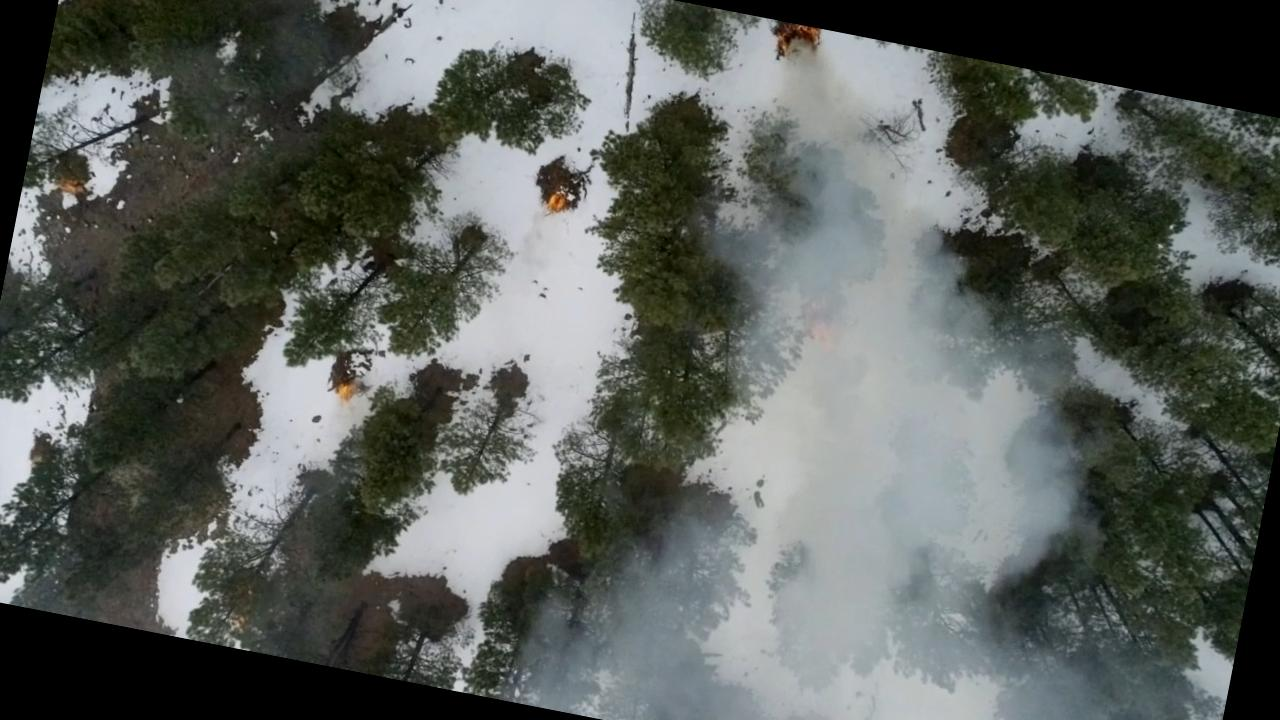fire: (764, 19, 828, 72), (536, 184, 572, 223), (329, 377, 362, 406)
smoke: (520, 440, 1222, 720), (709, 162, 1113, 530)
